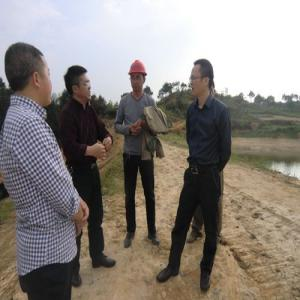none: (6, 41, 56, 112), (64, 65, 94, 108), (191, 59, 215, 100)
red: (128, 59, 149, 95)
